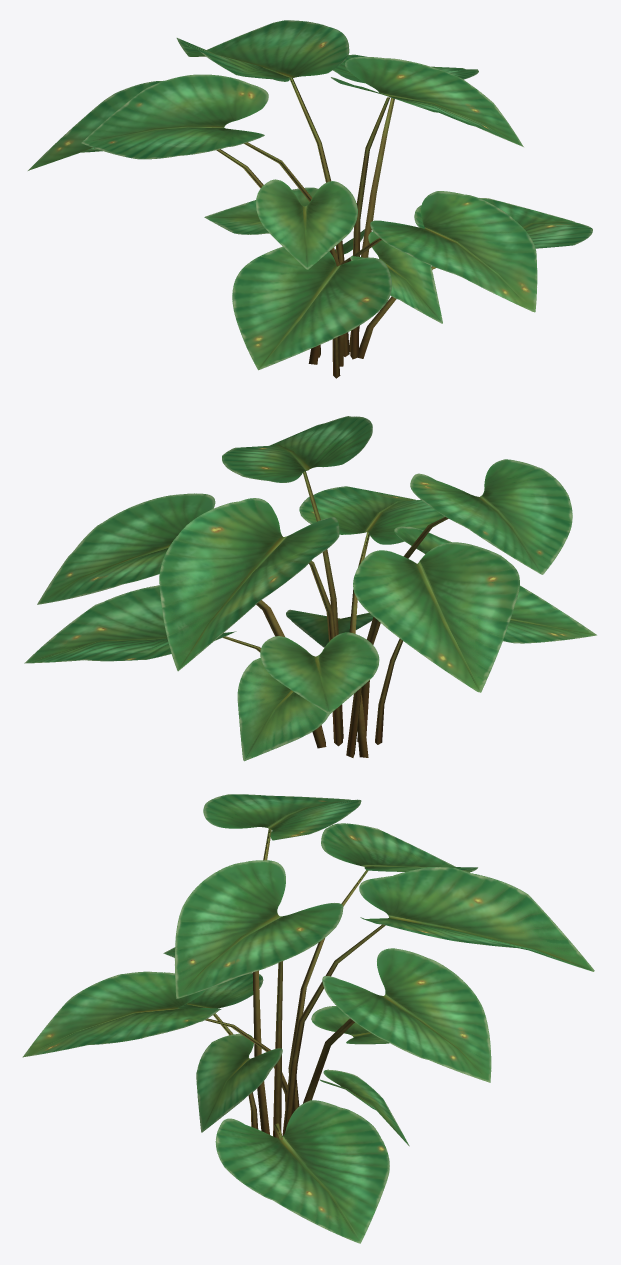
Rendered from tropicalPlant_03.FBX.
The picture shows the model from 3 angles, top to bottom: view 1: azimuth 30°, elevation 25°; view 2: azimuth 150°, elevation 25°; view 3: azimuth 270°, elevation 25°; orthographic projection. The views are drawn at different scales.
Visible parts, largest first — view 1: tp_03_Leaf_08, tp_03_Leaf_06, tp_03_Leaf_04, tp_03_Leaf_03, tp_03_Leaf_01, tp_03_Leaf_10, tropicalPlant_03_Stems, tp_03_Leaf_09, tp_03_Leaf_07, tp_03_Leaf_05, tp_03_Leaf_11, tp_03_Leaf_02; view 2: tp_03_Leaf_03, tp_03_Leaf_05, tp_03_Leaf_04, tp_03_Leaf_02, tp_03_Leaf_07, tp_03_Leaf_11, tp_03_Leaf_01, tp_03_Leaf_12, tropicalPlant_03_Stems, tp_03_Leaf_06, tp_03_Leaf_08, tp_03_Leaf_09 (+1 smaller); view 3: tp_03_Leaf_07, tp_03_Leaf_01, tp_03_Leaf_02, tp_03_Leaf_03, tp_03_Leaf_06, tropicalPlant_03_Stems, tp_03_Leaf_04, tp_03_Leaf_09, tp_03_Leaf_05, tp_03_Leaf_08, tp_03_Leaf_12, tp_03_Leaf_11.
Boxes of the visible parts, x1,y1,x2,y2 form: tp_03_Leaf_08: [232, 246, 391, 370]; tp_03_Leaf_06: [370, 191, 537, 312]; tp_03_Leaf_04: [81, 74, 268, 159]; tp_03_Leaf_03: [176, 20, 349, 81]; tp_03_Leaf_01: [331, 57, 523, 146]; tp_03_Leaf_10: [256, 179, 357, 269]; tropicalPlant_03_Stems: [216, 78, 436, 378]; tp_03_Leaf_09: [350, 231, 442, 323]; tp_03_Leaf_07: [414, 198, 592, 248]; tp_03_Leaf_05: [28, 80, 163, 170]; tp_03_Leaf_11: [204, 187, 318, 234]; tp_03_Leaf_02: [333, 54, 478, 83]; tp_03_Leaf_03: [159, 498, 339, 671]; tp_03_Leaf_05: [353, 542, 519, 692]; tp_03_Leaf_04: [410, 459, 572, 574]; tp_03_Leaf_02: [37, 493, 215, 604]; tp_03_Leaf_07: [24, 585, 236, 663]; tp_03_Leaf_11: [260, 632, 379, 713]; tp_03_Leaf_01: [222, 416, 372, 482]; tp_03_Leaf_12: [237, 658, 329, 761]; tropicalPlant_03_Stems: [222, 471, 448, 757]; tp_03_Leaf_06: [299, 486, 444, 544]; tp_03_Leaf_08: [503, 585, 596, 643]; tp_03_Leaf_09: [286, 609, 373, 647]; tp_03_Leaf_07: [215, 1100, 389, 1243]; tp_03_Leaf_01: [174, 860, 343, 998]; tp_03_Leaf_02: [322, 948, 491, 1082]; tp_03_Leaf_03: [359, 867, 594, 971]; tp_03_Leaf_06: [22, 971, 221, 1057]; tropicalPlant_03_Stems: [205, 828, 385, 1139]; tp_03_Leaf_04: [203, 794, 361, 840]; tp_03_Leaf_09: [196, 1033, 282, 1132]; tp_03_Leaf_05: [321, 823, 477, 872]; tp_03_Leaf_08: [177, 973, 263, 1008]; tp_03_Leaf_12: [319, 1069, 409, 1146]; tp_03_Leaf_11: [311, 1006, 389, 1044].
Size of the model in its own units: 94.48 by 53.85 by 95.56.
